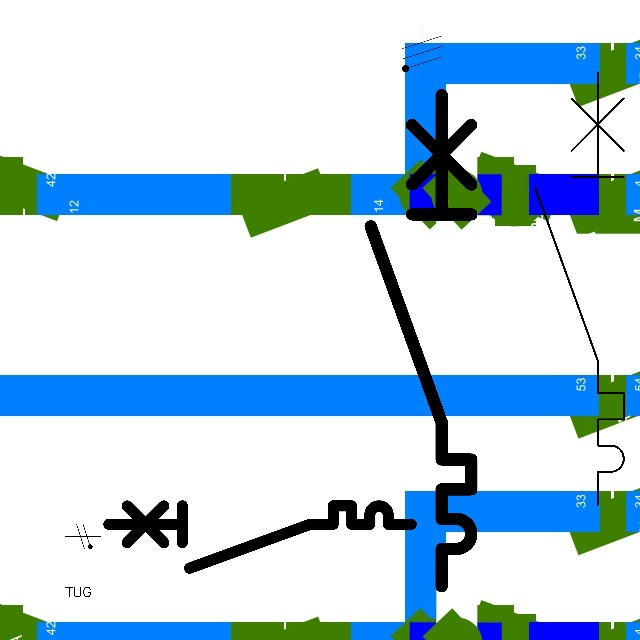interruptor_termomagnetico: (358, 82, 484, 599), (524, 61, 635, 516), (100, 498, 418, 575)
